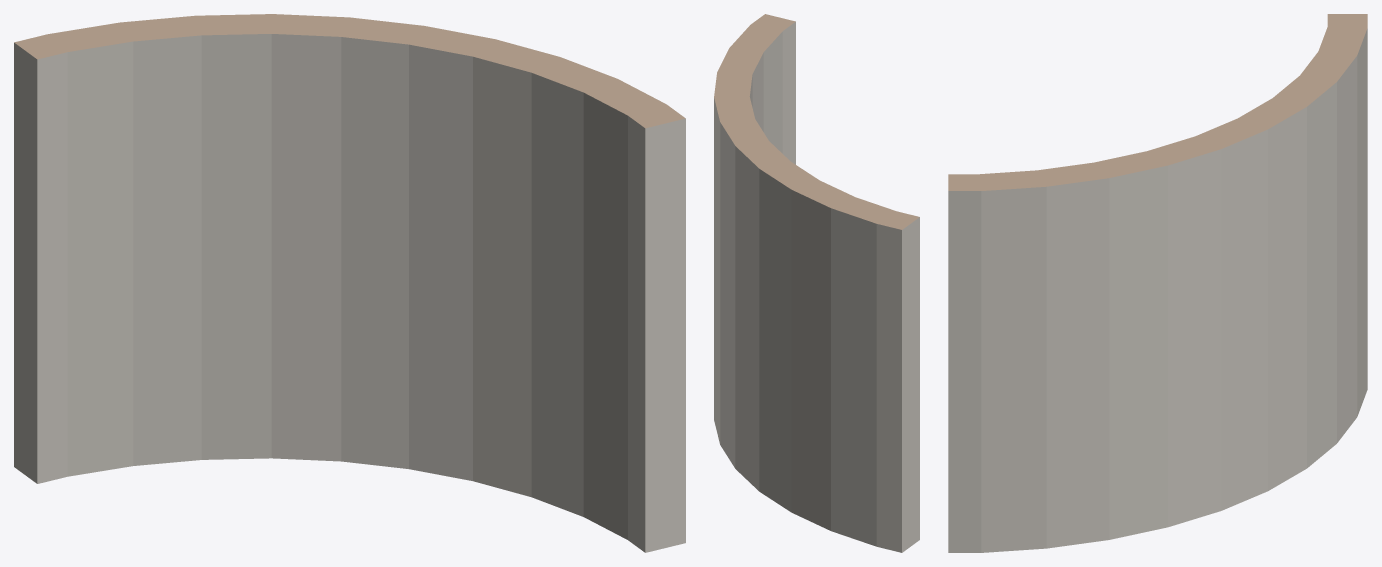
File: Structure_Wall_Curved_Small_Main.fbx
3 renders of one model, left to right at view 1: azimuth 30°, elevation 25°; view 2: azimuth 150°, elevation 25°; view 3: azimuth 270°, elevation 25°, orthographic. The views are drawn at different scales.
Parts seen in each view (by area): view 1: object1.115; view 2: object1.115; view 3: object1.115.
Boxes of the visible parts, <box> form: object1.115: <box>14,14,685,552</box>; object1.115: <box>714,14,919,552</box>; object1.115: <box>948,14,1367,552</box>.
Size of the model in its own units: 105 by 100 by 105.
